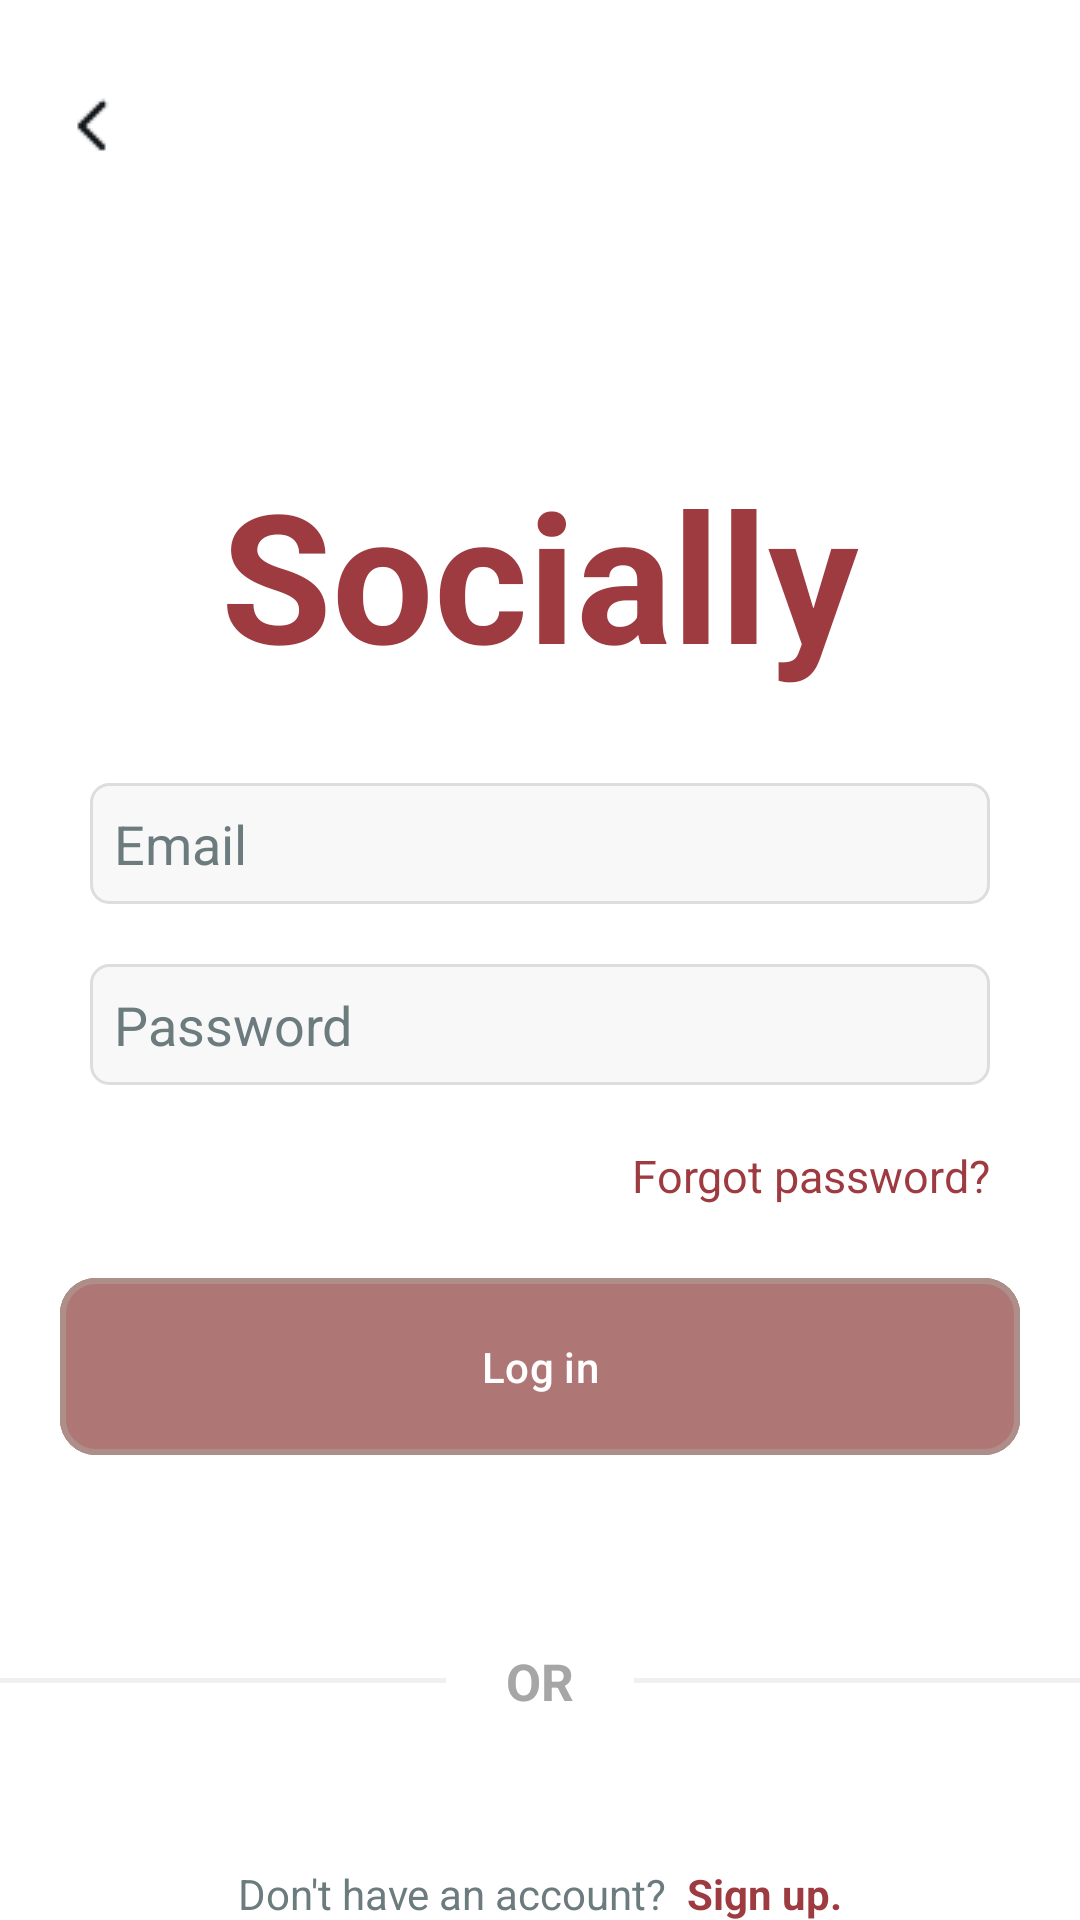

Icon bounding boxes for this 1080 x 1920 phone screenshot, format (x1, y1, x2, y2):
chevronleft: (77, 99, 108, 151)
